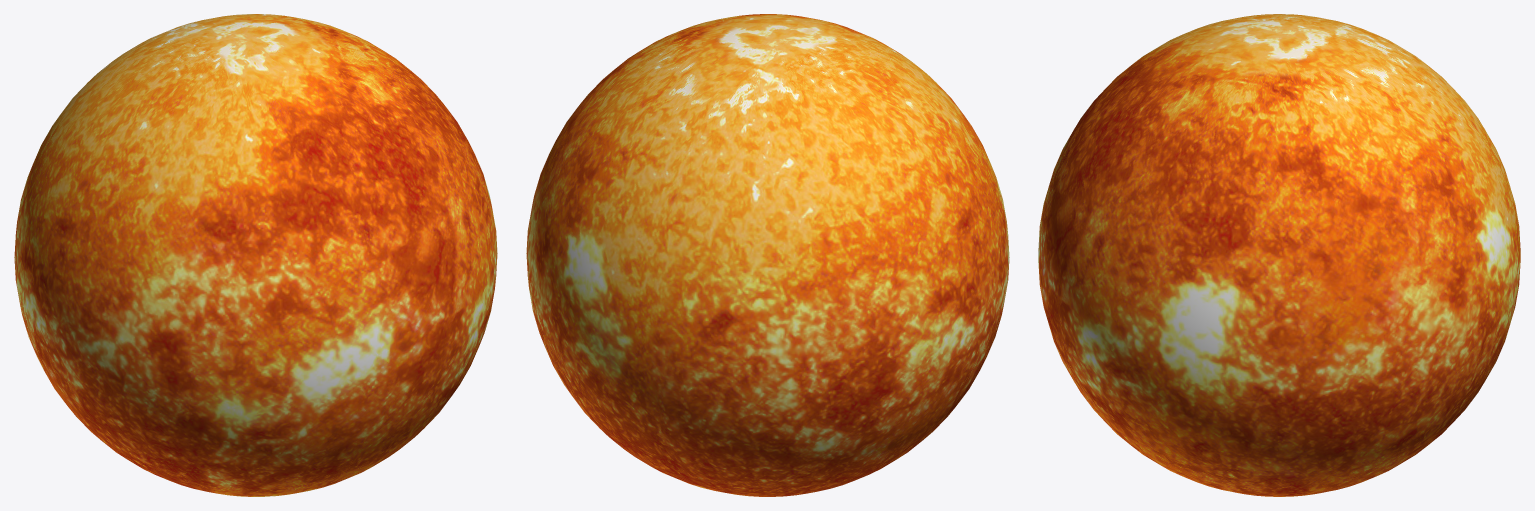
Rendered from dome.obj.
3 renders of one model, left to right at view 1: azimuth 30°, elevation 25°; view 2: azimuth 150°, elevation 25°; view 3: azimuth 270°, elevation 25°, orthographic.
Parts seen in each view (by area): view 1: Dome; view 2: Dome; view 3: Dome.
Part boxes in pixels (x1,y1,x2,y2): Dome: (14,14,497,496); Dome: (526,14,1009,496); Dome: (1038,14,1520,496).
Size of the model in its own units: 2 by 1.99 by 2.
